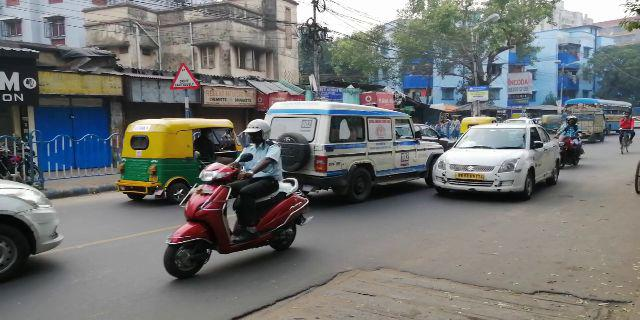Autorickshaw: (115, 117, 240, 197)
Car: (265, 105, 445, 196), (435, 129, 565, 194)
Motorbike: (164, 121, 306, 277)
